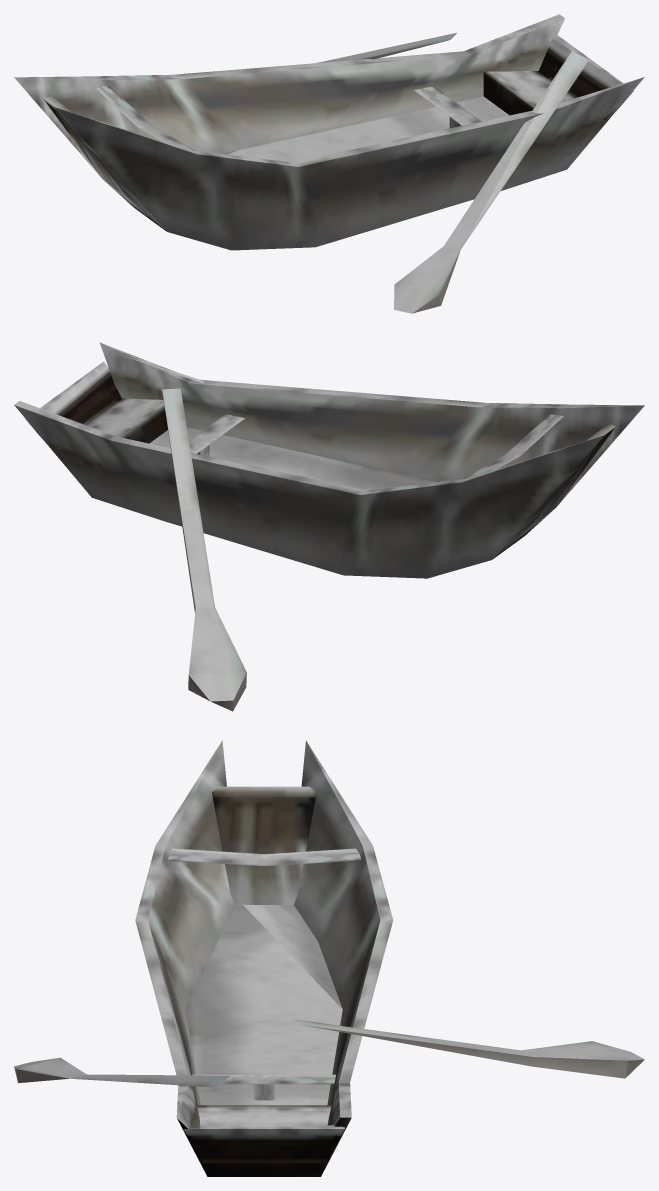
Rendered from general_obj_ferryboat01_lod_01.fbx.
3 views of the same model, one above another, from view 1: azimuth 30°, elevation 25°; view 2: azimuth 150°, elevation 25°; view 3: azimuth 270°, elevation 25° (orthographic). The views are drawn at different scales.
Parts seen in each view (by area): view 1: Object10; view 2: Object10; view 3: Object10.
Part boxes in pixels (x1=…): Object10: x1=14, y1=14, x2=644, y2=313; Object10: x1=14, y1=342, x2=644, y2=711; Object10: x1=14, y1=740, x2=644, y2=1176.
Bounding box in the file's own units: 5.3 × 1.9 × 4.99.
